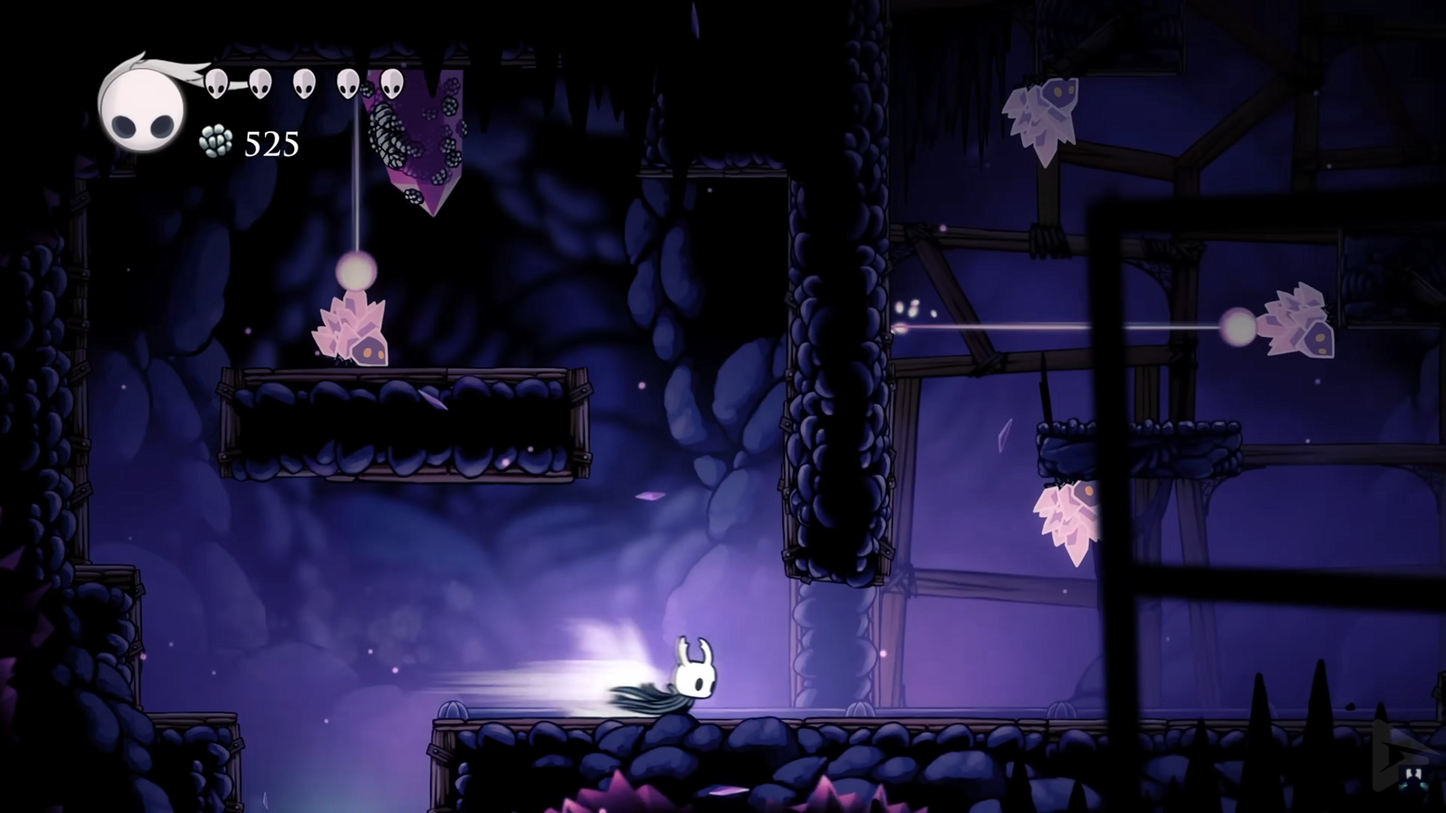HK: (652, 632, 722, 719)
